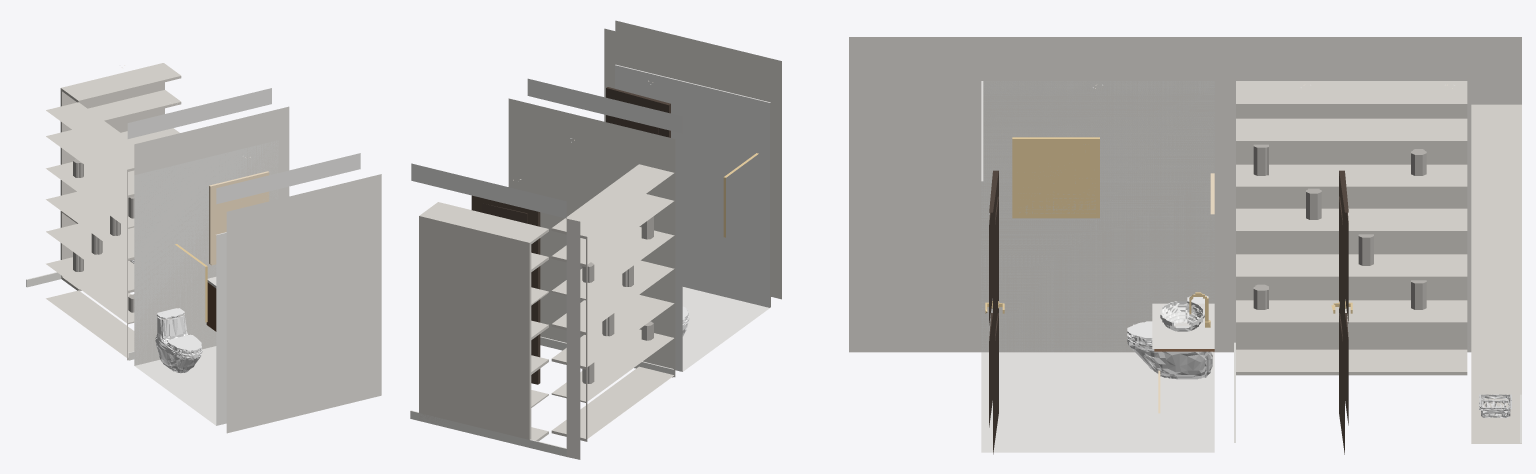
The model's file is PWD.glb.
The picture shows the model from 3 angles, left to right: view 1: azimuth 30°, elevation 25°; view 2: azimuth 150°, elevation 25°; view 3: azimuth 270°, elevation 25°; orthographic projection. The views are drawn at different scales.
Visible parts, largest first — view 1: WEB_PWD; view 2: WEB_PWD; view 3: WEB_PWD.
Boxes of the visible parts, x1=… form: WEB_PWD: x1=26, y1=63, x2=381, y2=433; WEB_PWD: x1=410, y1=20, x2=781, y2=459; WEB_PWD: x1=849, y1=37, x2=1521, y2=454.
Size of the model in its own units: 2.21 by 3 by 5.41.
